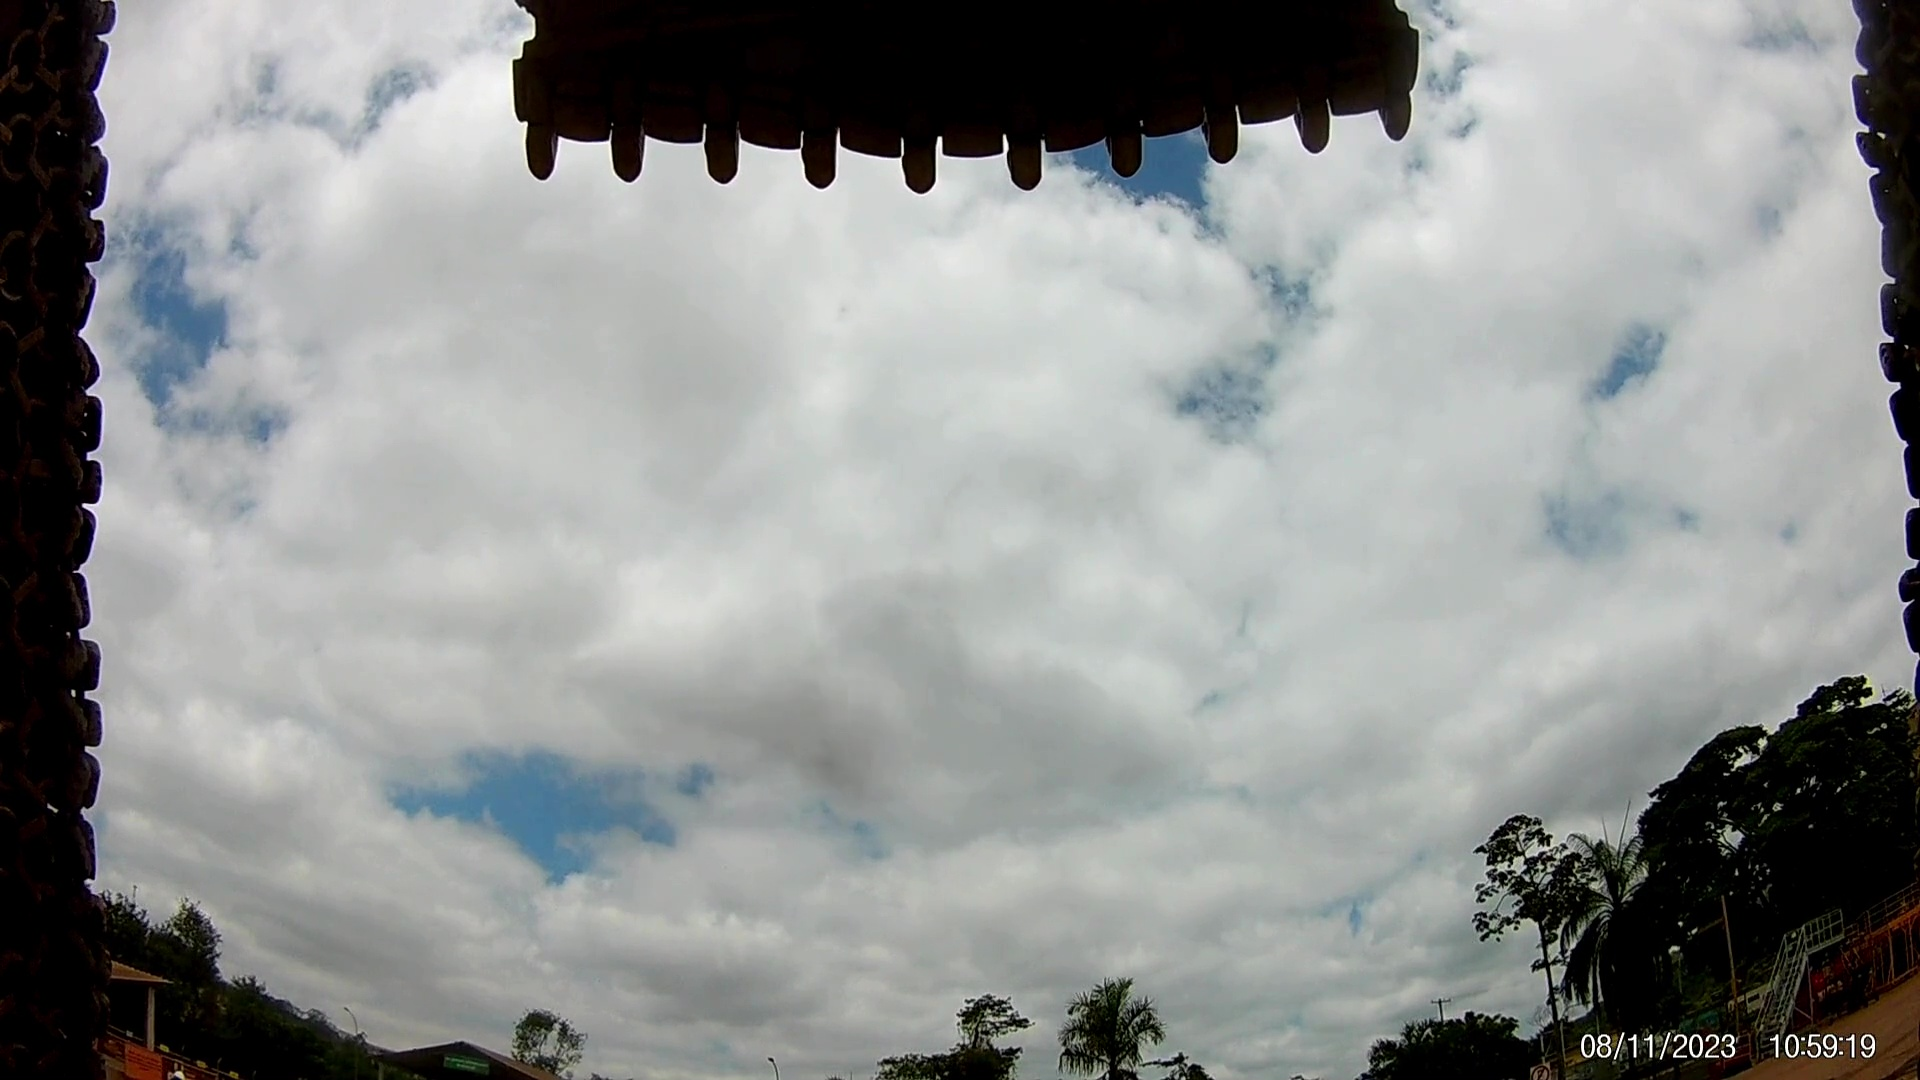FPS: (997, 119, 1058, 198), (506, 115, 563, 195), (704, 119, 761, 193), (891, 142, 949, 212), (793, 123, 844, 200), (607, 103, 651, 185), (1201, 103, 1251, 174), (1106, 119, 1156, 175), (1294, 98, 1338, 156), (1375, 103, 1429, 150)
